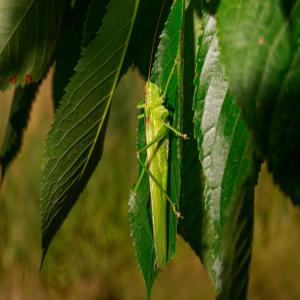locust: (133, 55, 196, 293)
